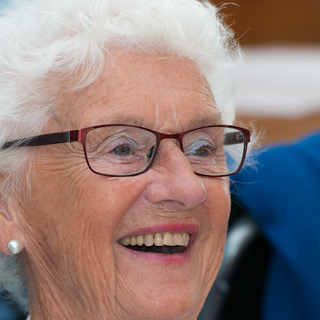eye: (98, 136, 142, 164), (182, 136, 220, 162)
